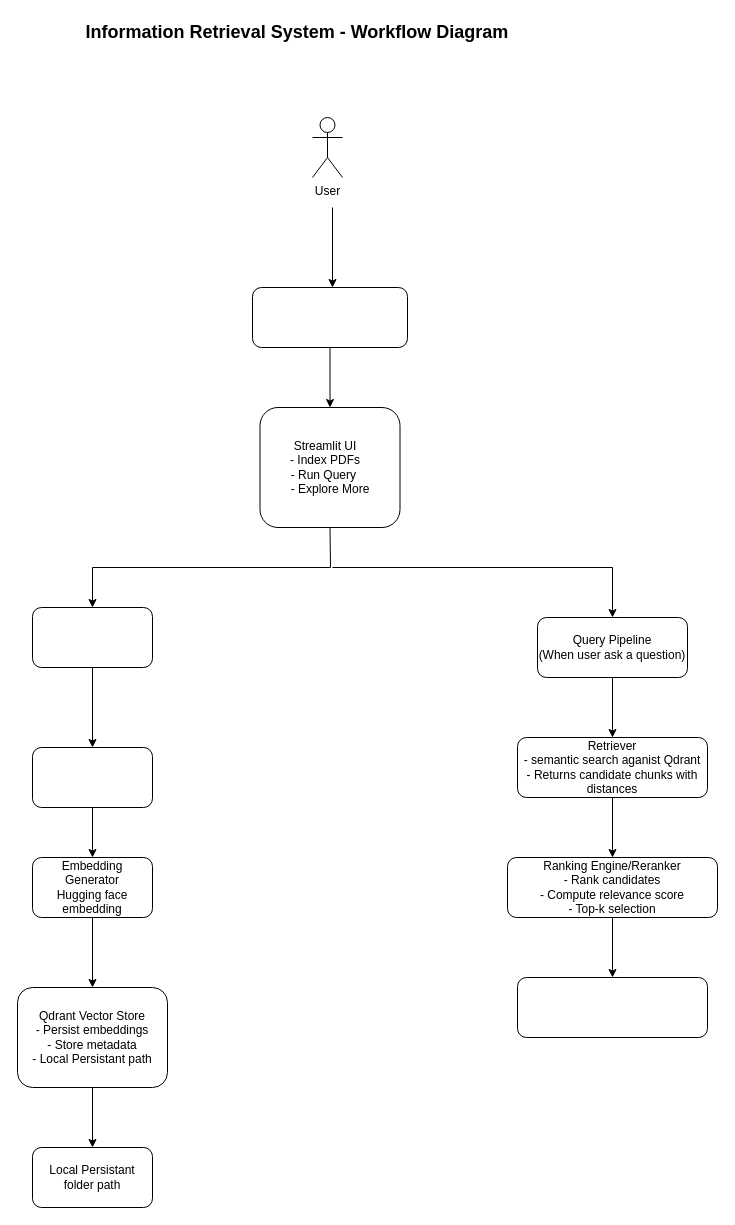
Some shapes in this 735 by 1225 pixel diagram are drawn without their labels. The shapes that lost their labels are listed below. From the top down, each one's box as (x1, y1, x2, y2) in pixels, then its label:
(252, 286, 408, 348): Type question/ select folder
(32, 606, 152, 668): Indexing Pipeline (When user selects folder & uploads PDFs)
(32, 746, 152, 808): PDF Reader -Extract text
(516, 976, 708, 1038): Explore more - Display score - Chunks of data - Rankiing position
